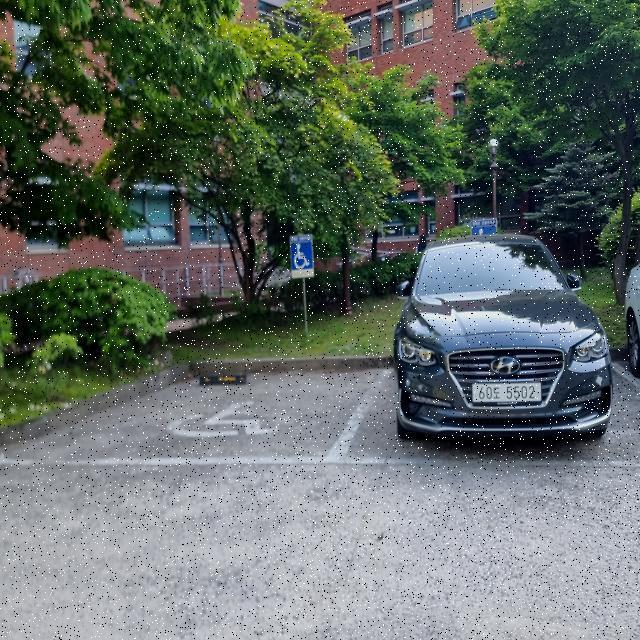Car: (382, 216, 625, 454)
Vacant: (10, 356, 373, 464)
